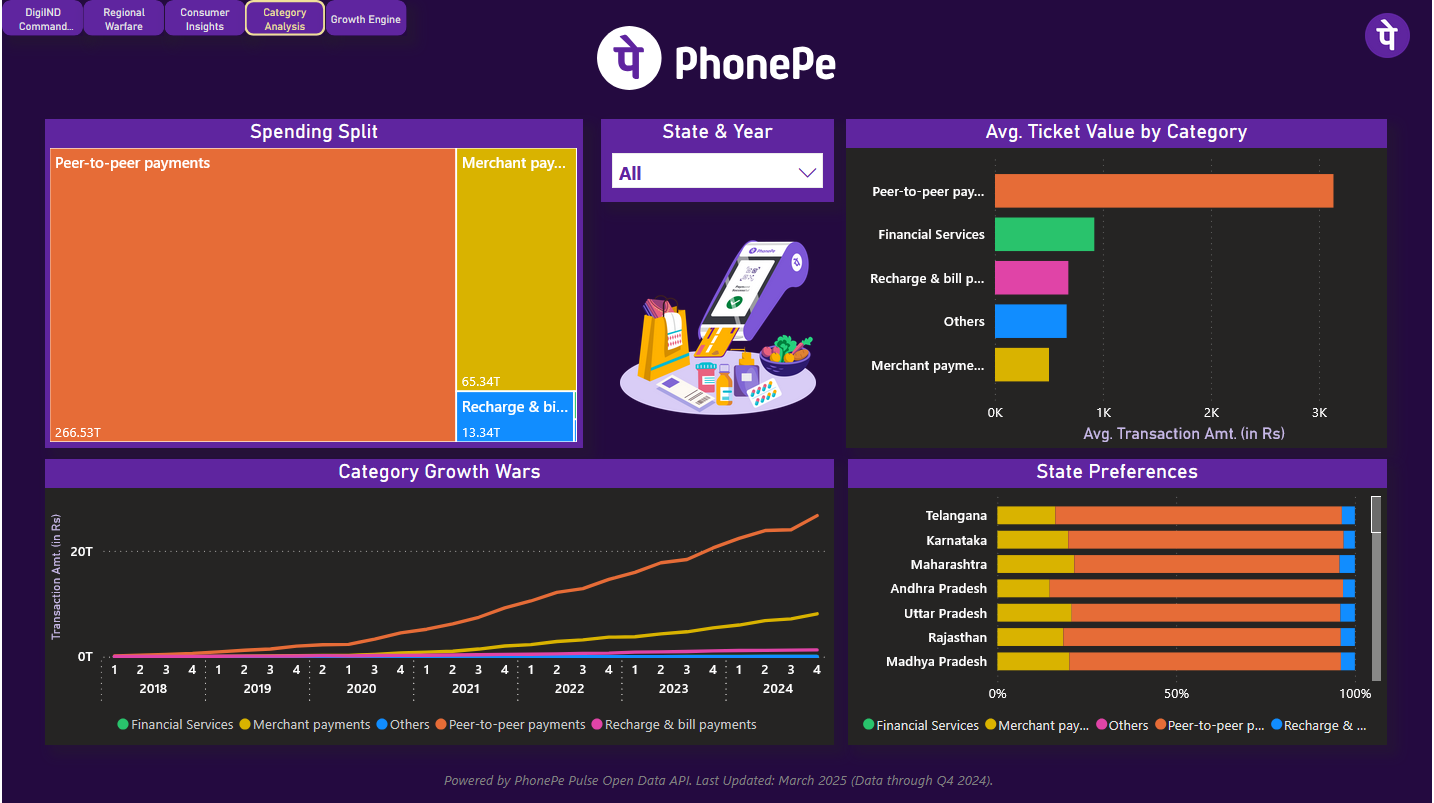

What the dashboard file says about the page in this screenshot:
{"tool":"powerbi","page":{"name":"Category Analysis","canvas":[1280,720],"ordinal":4},"visuals":[{"type":"shape","box":[0,0,72.6,31.9],"z":0,"group":"g1"},{"type":"image","box":[489.6,20.9,301.8,61.4],"z":0},{"type":"shape","box":[72.6,0,72.6,31.9],"z":1000,"group":"g1"},{"type":"image","box":[1211,11,58.9,40.5],"z":1000},{"type":"shape","box":[145.3,0,72.6,31.9],"z":2000,"group":"g1"},{"type":"slicer","title":"State & Year","fields":{"Values":["phonepe_aggregated_transactions.State","phonepe_aggregated_transactions.Year"]},"box":[536.2,106.7,208.6,74.8],"z":2000},{"type":"shape","box":[217.2,0,72.4,31.9],"z":3000,"group":"g1"},{"type":"treemap","title":"Spending Split","fields":{"Group":["phonepe_aggregated_transactions.Transaction_Type"],"Values":["Sum(phonepe_aggregated_transactions.Transaction_Amount)"]},"box":[38,106.7,482.2,294.5],"z":3000},{"type":"shape","box":[289.6,0,72.4,31.9],"z":4000,"group":"g1"},{"type":"lineChart","title":"Category Growth Wars","fields":{"Category":["phonepe_aggregated_transactions.Year","phonepe_aggregated_transactions.Quarter"],"Y":["Sum(phonepe_aggregated_transactions.Transaction_Amount)"],"Series":["phonepe_aggregated_transactions.Transaction_Type"]},"box":[38,411,706.8,256],"z":4000},{"type":"clusteredBarChart","title":"Avg. Ticket Value by Category","fields":{"Y":["phonepe_aggregated_transactions.Avg Transaction Value"],"Category":["phonepe_aggregated_transactions.Transaction_Type"]},"box":[755.8,106.7,484.7,294.5],"z":5000},{"type":"hundredPercentStackedBarChart","title":"State Preferences","fields":{"Y":["Sum(phonepe_aggregated_transactions.Transaction_Amount)"],"Category":["phonepe_aggregated_transactions.State"],"Series":["phonepe_aggregated_transactions.Transaction_Type"]},"box":[758.3,411,482.2,256.4],"z":6000},{"type":"image","box":[532.5,209.8,216,162],"z":7000},{"type":"group","id":"g1","title":"Group 1","box":[0,0,362,31.9],"z":8000},{"type":"textbox","box":[155.8,684.4,971.8,35.6],"z":9000}]}

Visuals, with their boxes in screenshot pixels (x1, y1, x2, y2), scaled from the page's 1280x720 canvas onto the 1434x803 screenshot:
shape: box(0, 0, 81, 36)
image: box(549, 23, 887, 92)
shape: box(81, 0, 163, 36)
image: box(1357, 12, 1423, 57)
shape: box(163, 0, 244, 36)
"State & Year" slicer: box(601, 119, 834, 202)
shape: box(243, 0, 324, 36)
"Spending Split" treemap: box(43, 119, 583, 447)
shape: box(324, 0, 406, 36)
"Category Growth Wars" lineChart: box(43, 458, 834, 744)
"Avg. Ticket Value by Category" clusteredBarChart: box(847, 119, 1390, 447)
"State Preferences" hundredPercentStackedBarChart: box(850, 458, 1390, 744)
image: box(597, 234, 839, 415)
"Group 1" group: box(0, 0, 406, 36)
textbox: box(175, 763, 1263, 802)
